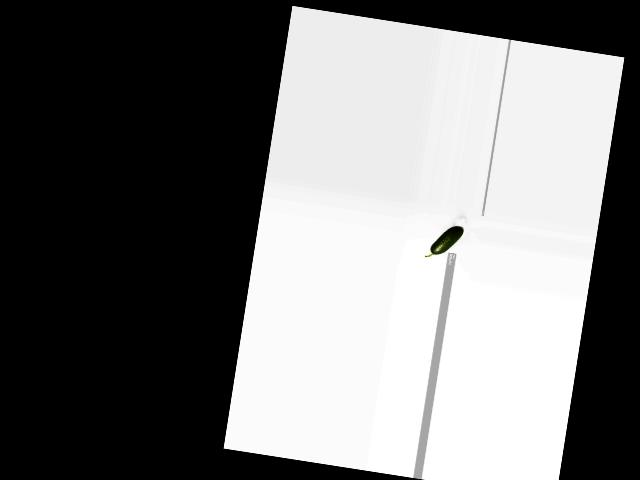cucumber: (425, 222, 464, 263)
